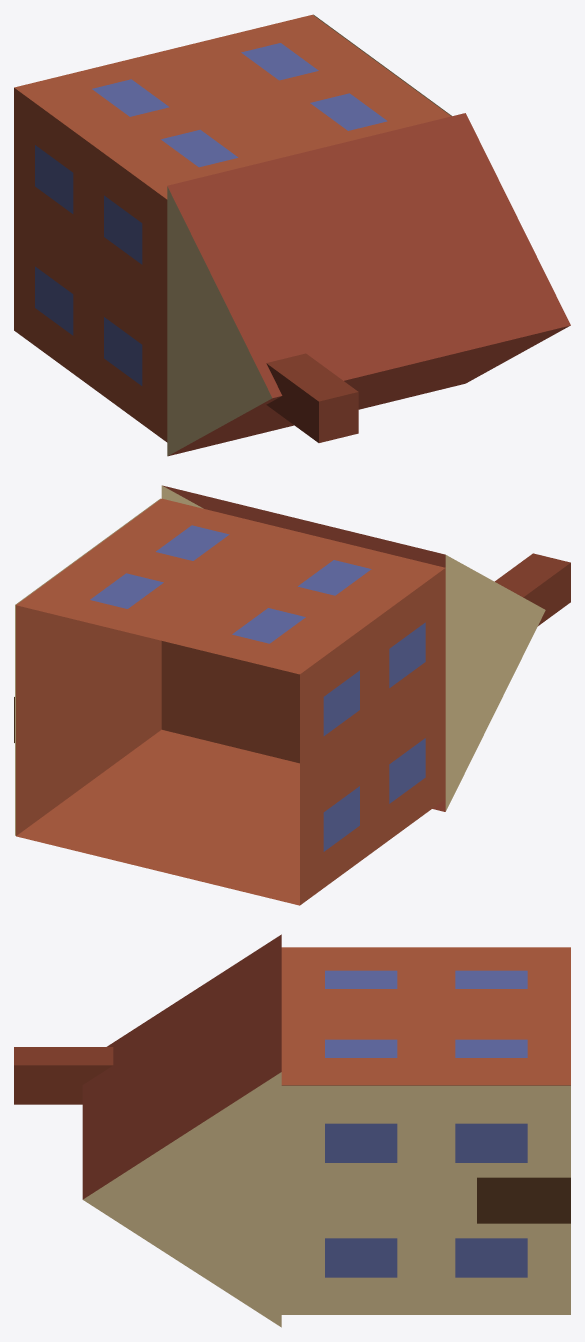
The model's file is construction_2.glb.
3 renders of one model, top to bottom at view 1: azimuth 30°, elevation 25°; view 2: azimuth 150°, elevation 25°; view 3: azimuth 270°, elevation 25°, orthographic. The views are drawn at different scales.
Parts seen in each view (by area): view 1: c2; view 2: c2; view 3: c2.
Boxes of the visible parts, <box> form: c2: <box>14,14,570,456</box>; c2: <box>14,485,570,905</box>; c2: <box>14,934,570,1327</box>.
Size of the model in its own units: 9.12 by 7.8 by 15.4.
